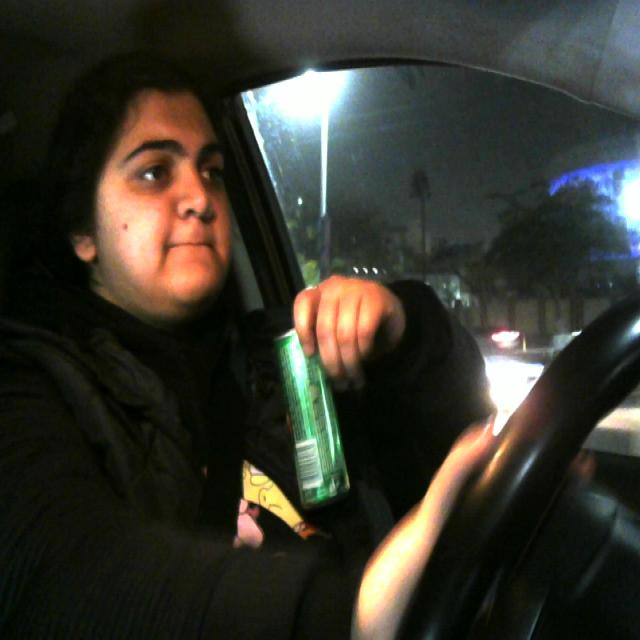drinking: (270, 316, 358, 516)
